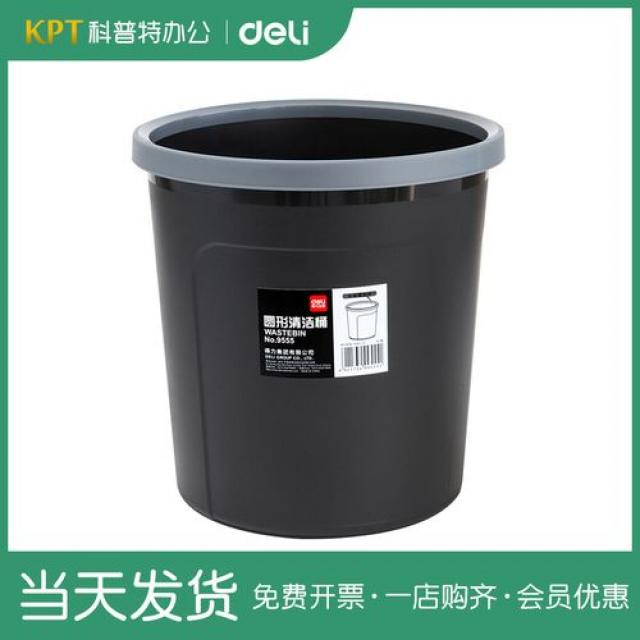Dustbin: (128, 91, 513, 544)
